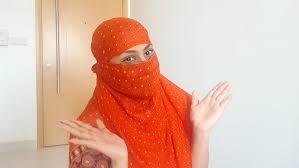scarf-kerchief: (79, 2, 197, 149)
